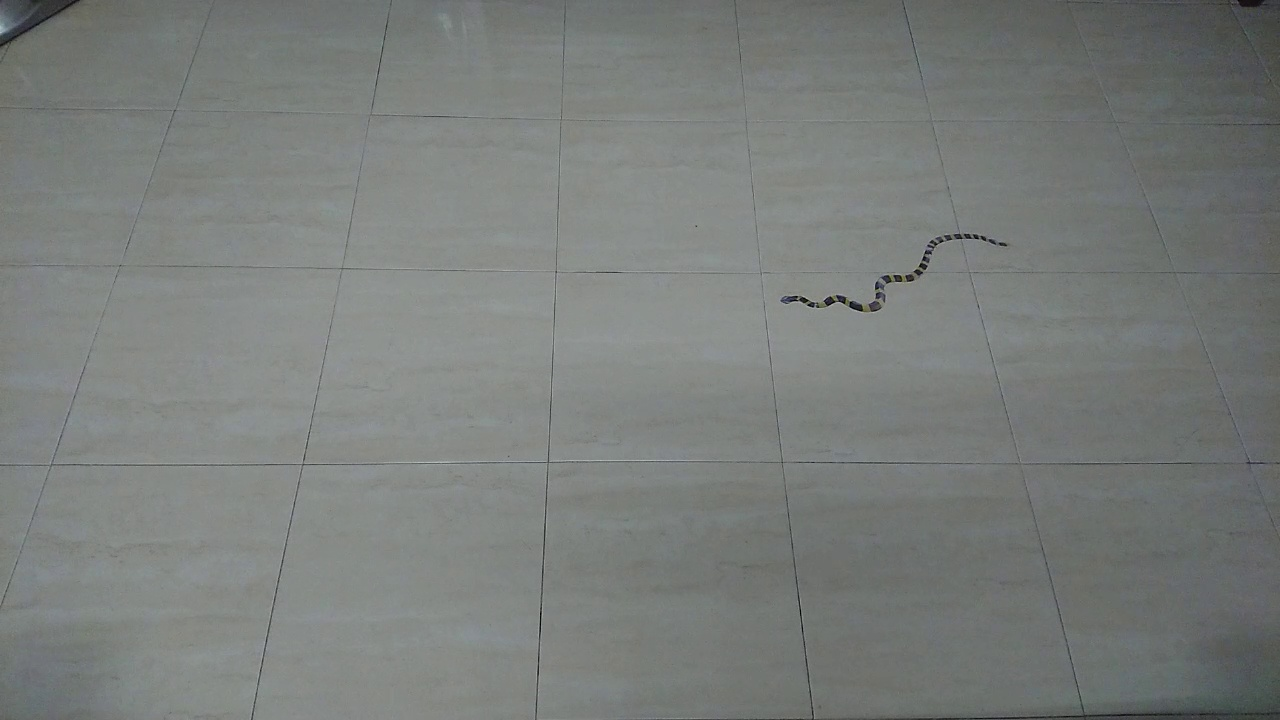snake: (763, 218, 1021, 324)
